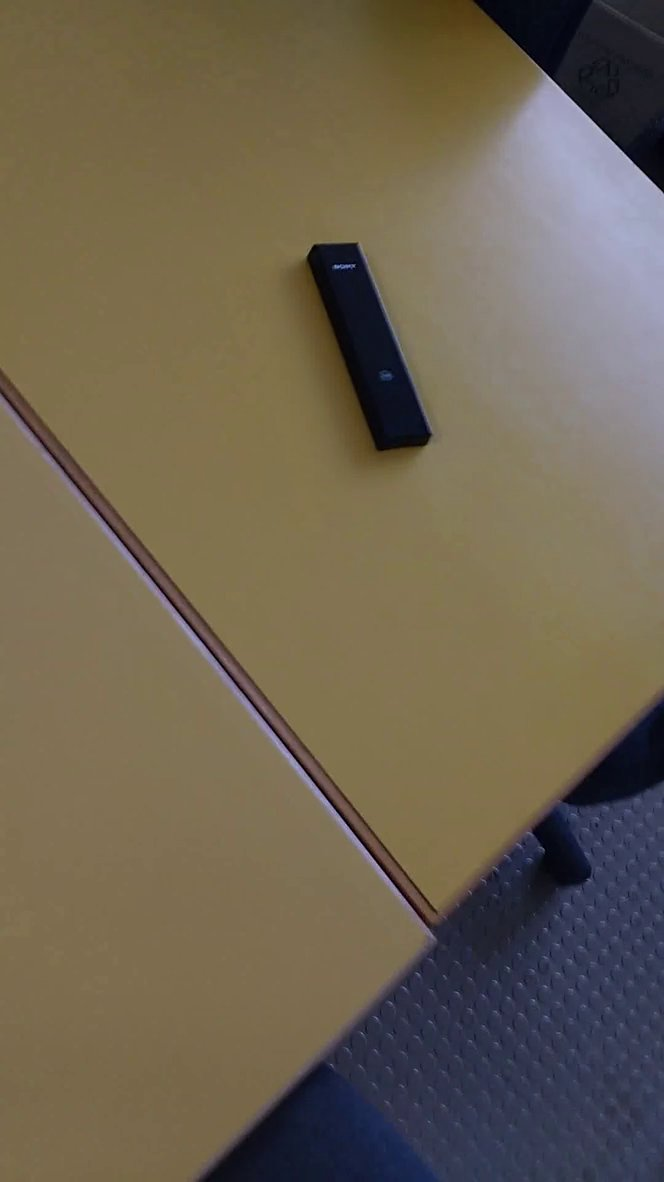remote: (294, 234, 440, 461)
